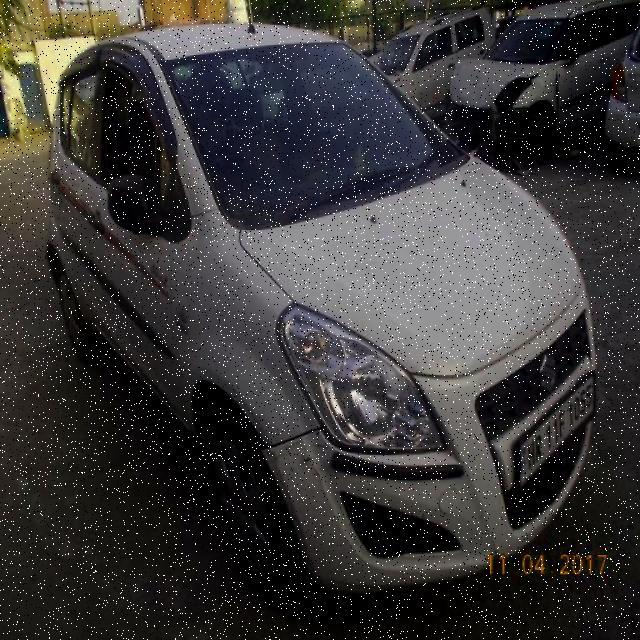car damage: (267, 438, 339, 519), (299, 443, 319, 472)
